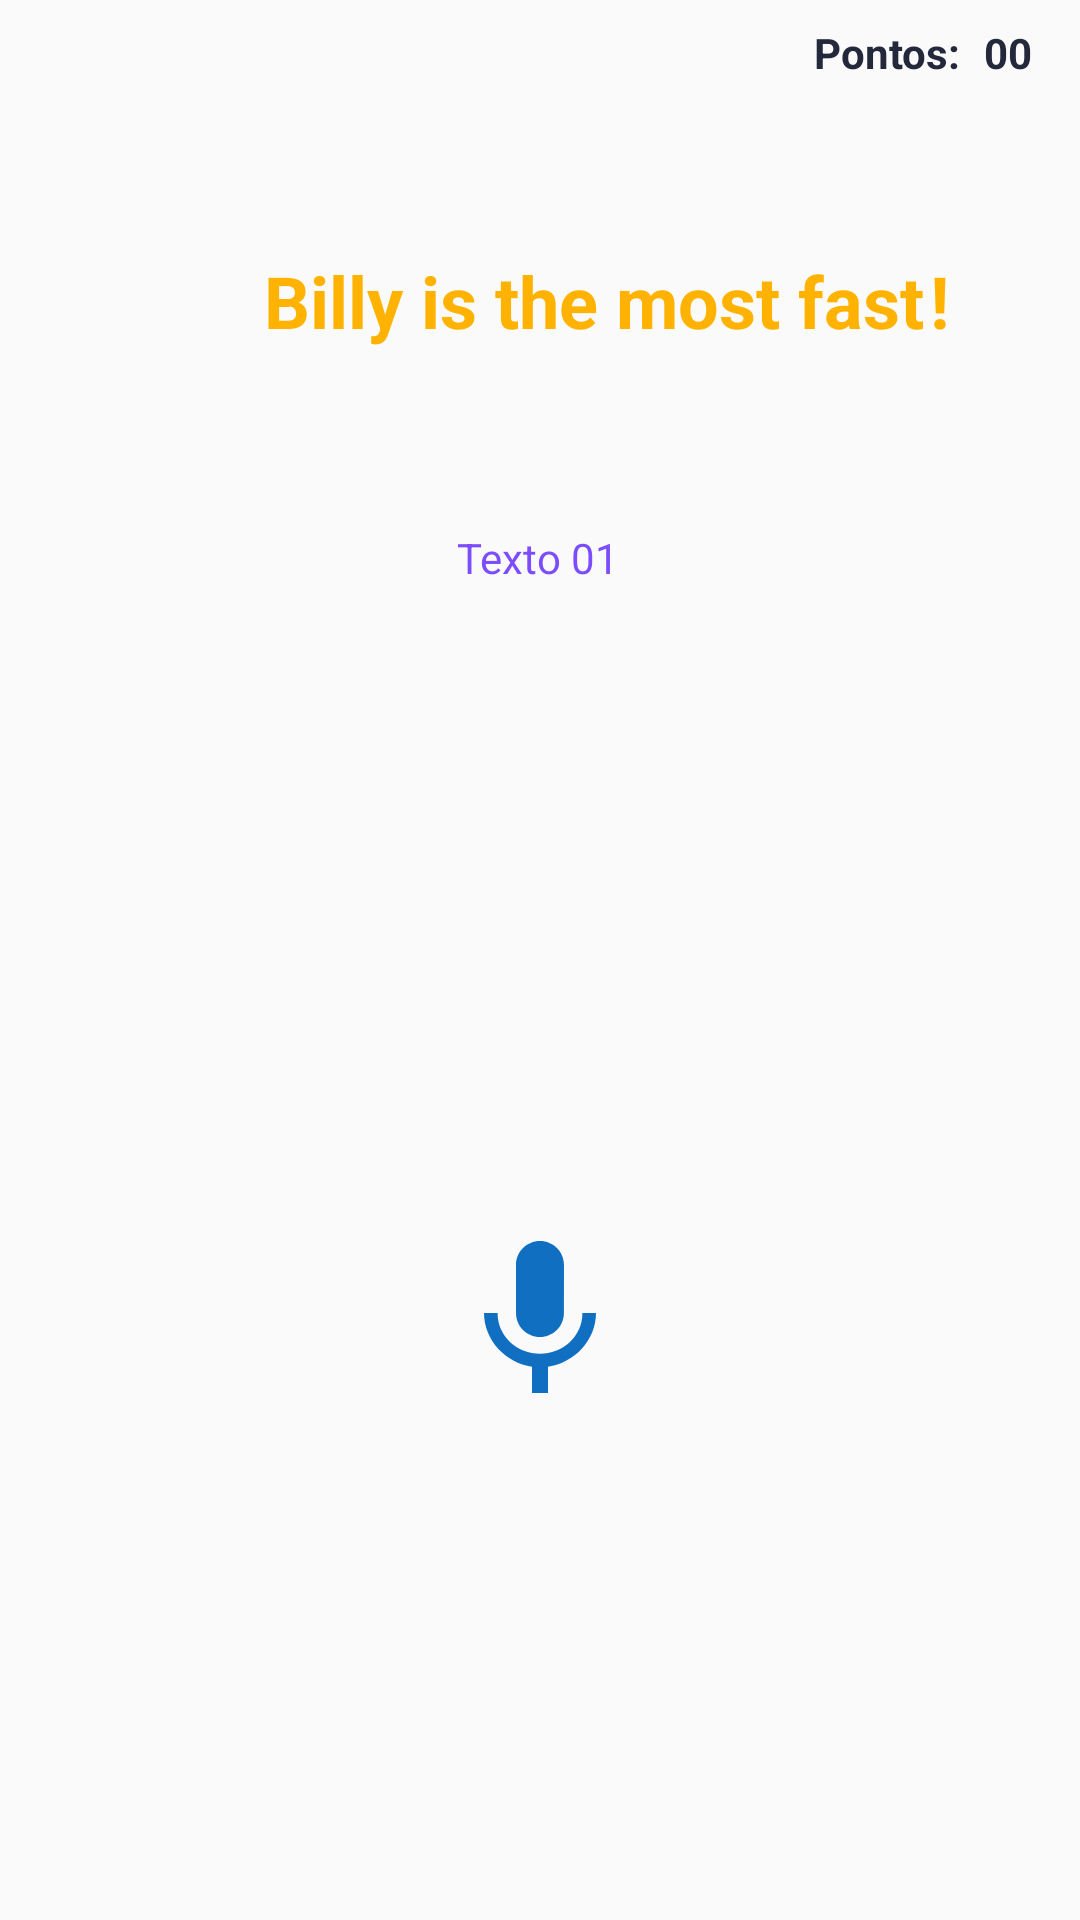

Icon bounding boxes for this 1080×1920 phone screenshot, format (x1, y1, x2, y2):
microfone: (484, 1241, 596, 1393)
